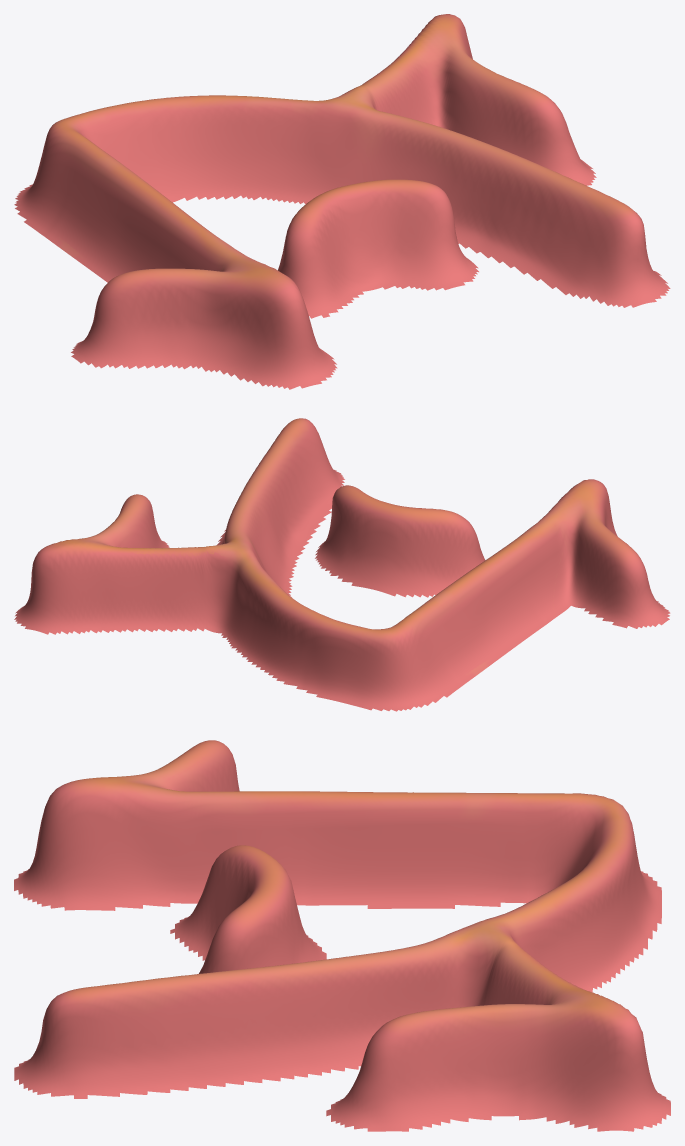
The model's file is cave_gliph_6.fbx.
3 renders of one model, top to bottom at view 1: azimuth 30°, elevation 25°; view 2: azimuth 150°, elevation 25°; view 3: azimuth 270°, elevation 25°, orthographic. The views are drawn at different scales.
Visible parts, largest first — view 1: gliph_6; view 2: gliph_6; view 3: gliph_6.
Part boxes in pixels (x1=…): gliph_6: x1=14, y1=14, x2=670, y2=389; gliph_6: x1=14, y1=418, x2=670, y2=711; gliph_6: x1=14, y1=740, x2=670, y2=1131.
Bounding box in the file's own units: 171 × 24.56 × 143.
1 material, 1 textured.
